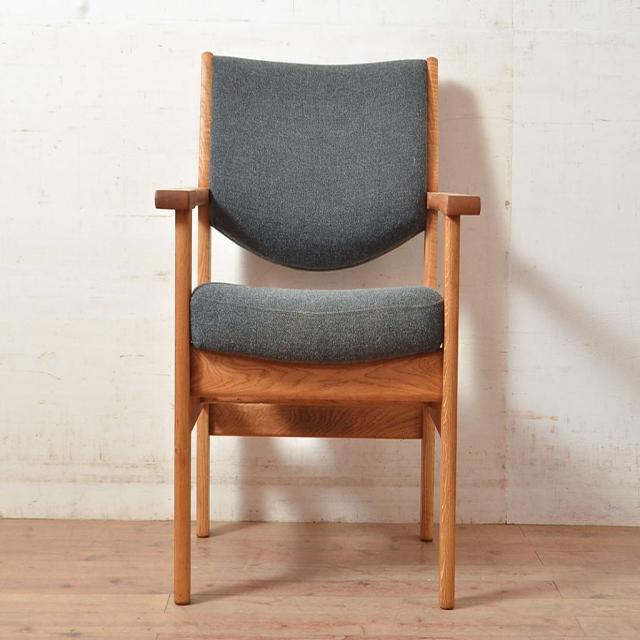chair vintage: (152, 47, 483, 614)
